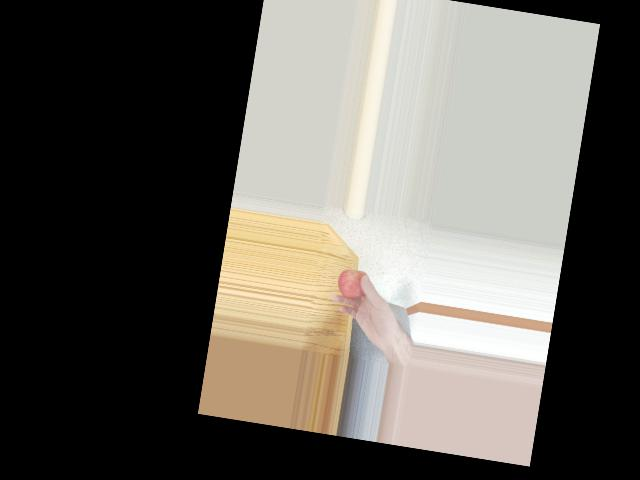apple: (336, 267, 372, 302)
